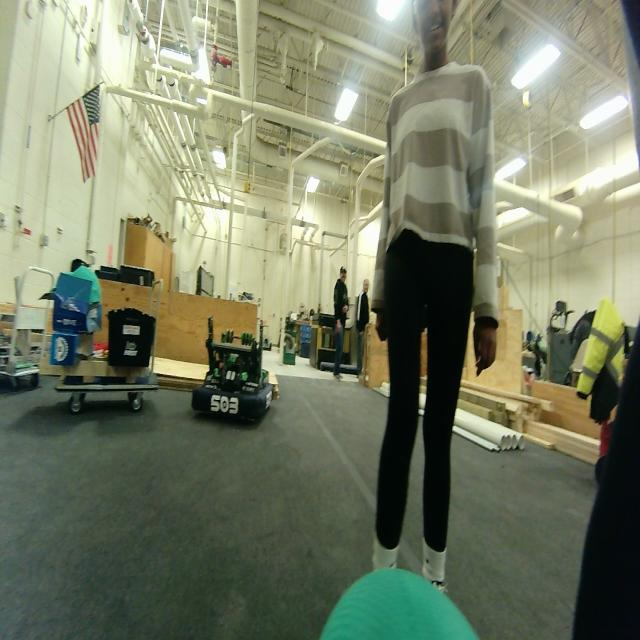algae: (316, 561, 488, 640)
